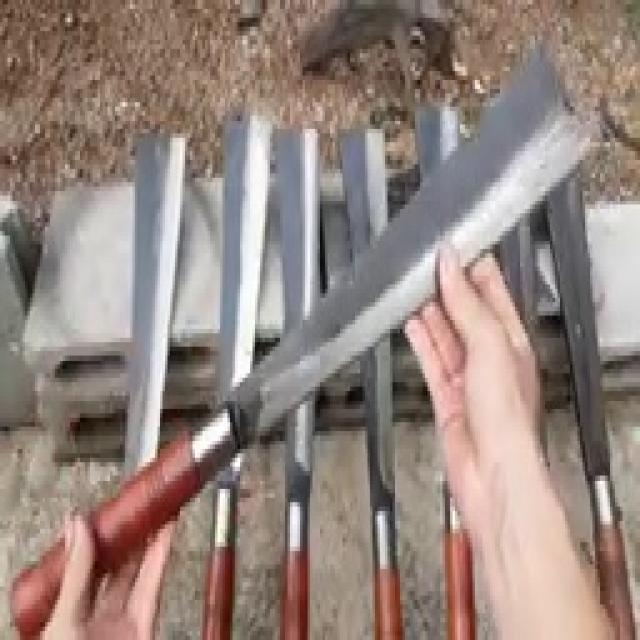eto: (12, 42, 599, 640)
